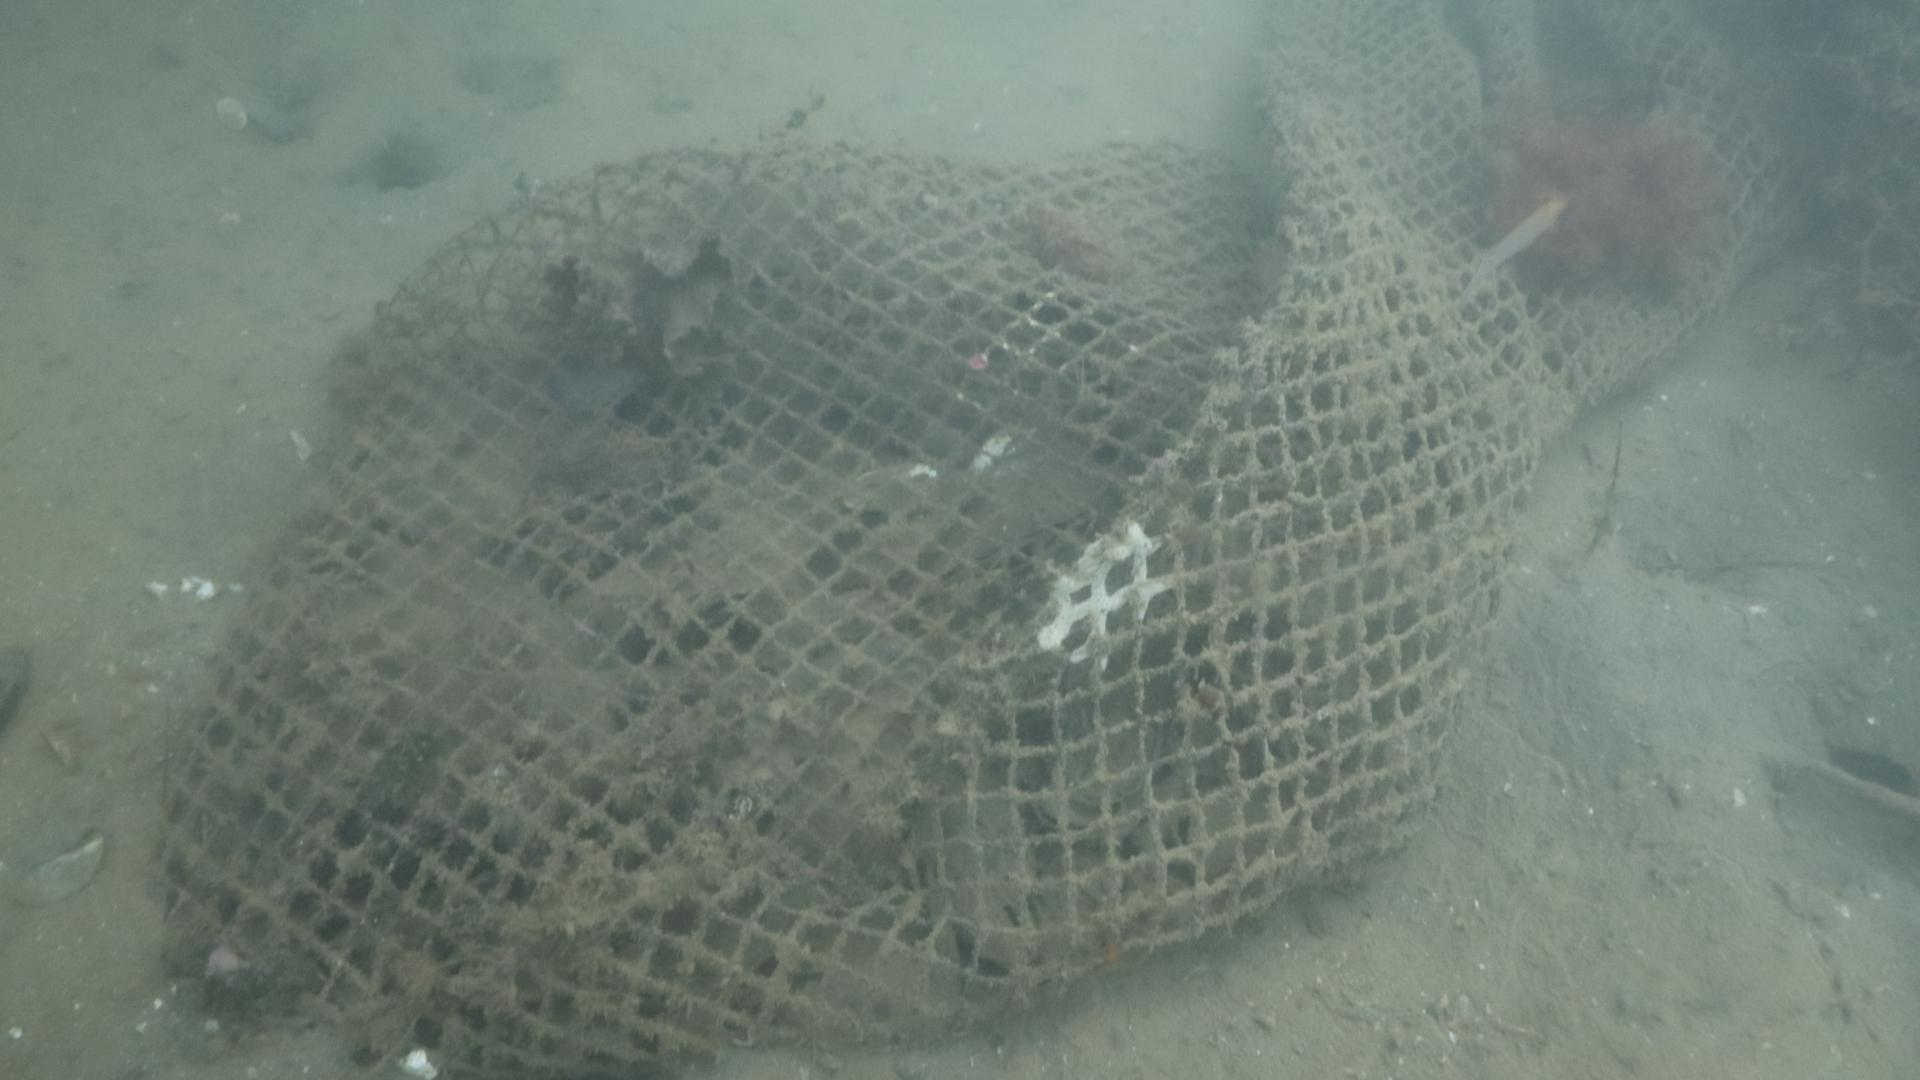fish net: (160, 0, 1789, 1076)
